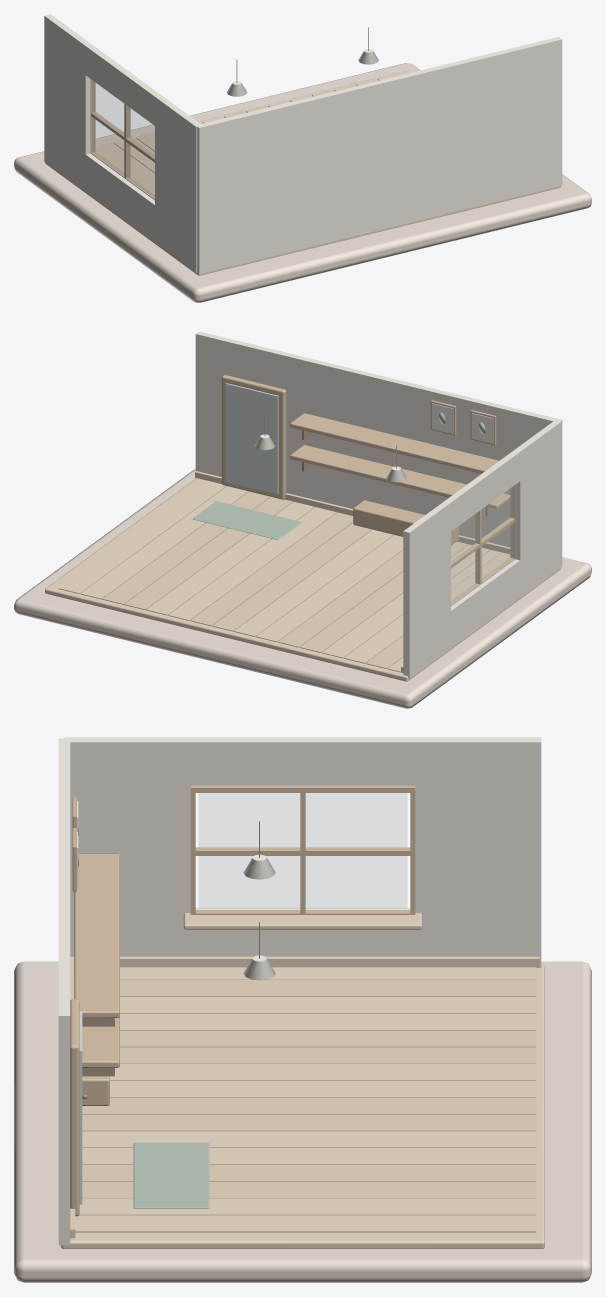
The model's file is room-w1_1.glb.
3 views of the same model, one above another, from view 1: azimuth 30°, elevation 25°; view 2: azimuth 150°, elevation 25°; view 3: azimuth 270°, elevation 25° (orthographic). The views are drawn at different scales.
Parts seen in each view (by area): view 1: room-w1_1.material2, room-w1_1.material0, room-w1_1.material9, room-w1_1.material1, room-w1_1.material4, room-w1_1.material7, room-w1_1.material10, room-w1_1.material8; view 2: room-w1_1.material2, room-w1_1.material7, room-w1_1.material0, room-w1_1.material8, room-w1_1.material4, room-w1_1.material1, room-w1_1.material5, room-w1_1.material9, room-w1_1.material3, room-w1_1.material10; view 3: room-w1_1.material2, room-w1_1.material7, room-w1_1.material8, room-w1_1.material0, room-w1_1.material9, room-w1_1.material1, room-w1_1.material4, room-w1_1.material3, room-w1_1.material10, room-w1_1.material5.
Part boxes in pixels (x1,y1,x2,y2): room-w1_1.material2: [44, 14, 562, 273]; room-w1_1.material0: [14, 63, 591, 302]; room-w1_1.material9: [91, 80, 154, 199]; room-w1_1.material1: [45, 71, 560, 275]; room-w1_1.material4: [90, 79, 154, 200]; room-w1_1.material7: [95, 73, 400, 183]; room-w1_1.material10: [227, 49, 378, 96]; room-w1_1.material8: [136, 84, 356, 151]; room-w1_1.material2: [195, 331, 562, 678]; room-w1_1.material7: [58, 480, 509, 672]; room-w1_1.material0: [14, 469, 591, 708]; room-w1_1.material8: [102, 491, 468, 668]; room-w1_1.material4: [221, 375, 515, 605]; room-w1_1.material1: [45, 471, 560, 681]; room-w1_1.material5: [225, 383, 278, 494]; room-w1_1.material9: [451, 485, 514, 605]; room-w1_1.material3: [192, 412, 485, 539]; room-w1_1.material10: [255, 403, 493, 482]; room-w1_1.material2: [58, 737, 541, 1245]; room-w1_1.material7: [75, 967, 535, 1232]; room-w1_1.material8: [82, 980, 535, 1198]; room-w1_1.material0: [14, 961, 591, 1282]; room-w1_1.material9: [198, 793, 407, 908]; room-w1_1.material1: [61, 913, 544, 1248]; room-w1_1.material4: [70, 785, 415, 1216]; room-w1_1.material3: [78, 821, 209, 1208]; room-w1_1.material10: [77, 801, 275, 980]; room-w1_1.material5: [79, 1011, 82, 1204].
Size of the model in its own units: 10 by 3.92 by 8.
